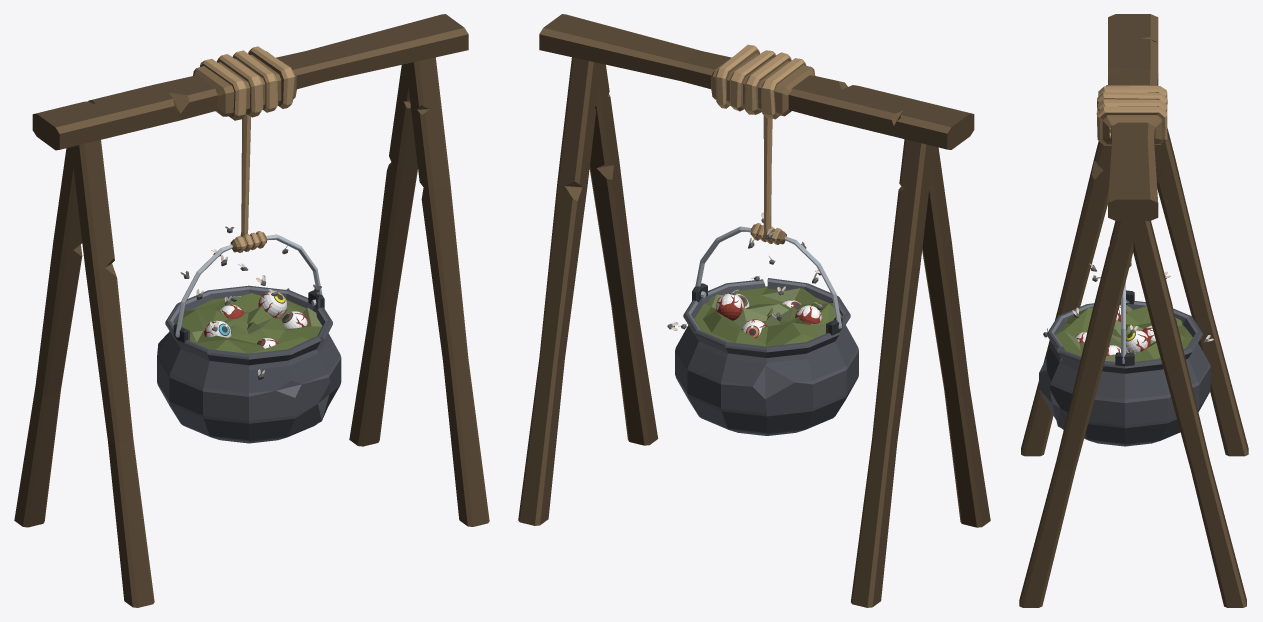
Rendered from WF_LP_HT_Props_Boiler.006.fbx.
3 renders of one model, left to right at view 1: azimuth 30°, elevation 25°; view 2: azimuth 150°, elevation 25°; view 3: azimuth 270°, elevation 25°, orthographic. The views are drawn at different scales.
Visible parts, largest first — view 1: WF_LP_HT_Props_Boiler.006; view 2: WF_LP_HT_Props_Boiler.006; view 3: WF_LP_HT_Props_Boiler.006.
Boxes of the visible parts, x1,y1,x2,y2 form: WF_LP_HT_Props_Boiler.006: [14, 14, 489, 607]; WF_LP_HT_Props_Boiler.006: [518, 14, 990, 607]; WF_LP_HT_Props_Boiler.006: [1019, 14, 1248, 607].
Size of the model in its own units: 1.48 by 1.59 by 0.7696.
